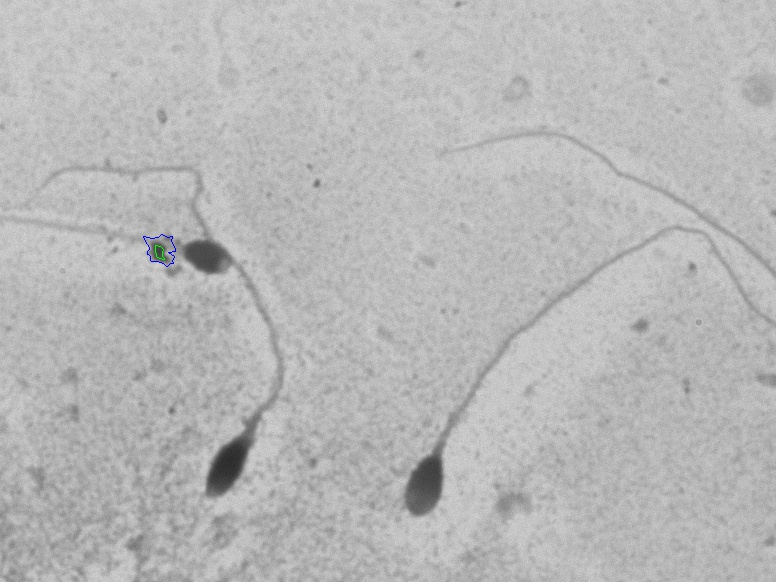Abnormal: (146, 286, 320, 524), (9, 166, 262, 297)
Normal: (356, 221, 745, 529)
